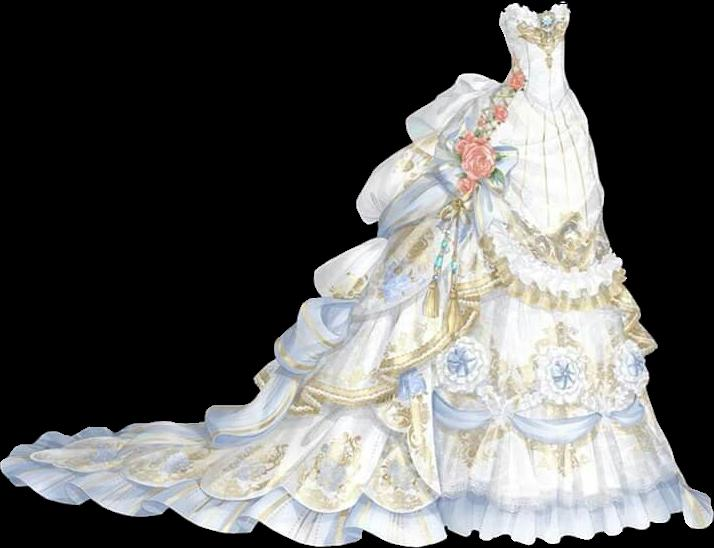Bodice: (487, 0, 572, 125)
Hemline: (25, 355, 445, 517), (0, 460, 712, 547), (198, 280, 499, 433), (413, 142, 627, 307)
Neckline: (496, 0, 568, 19)
Skirt: (0, 73, 713, 546)
Waistline: (499, 81, 574, 118)
